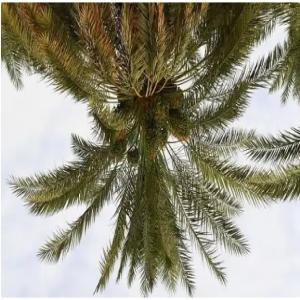palm tree: (1, 2, 299, 296)
